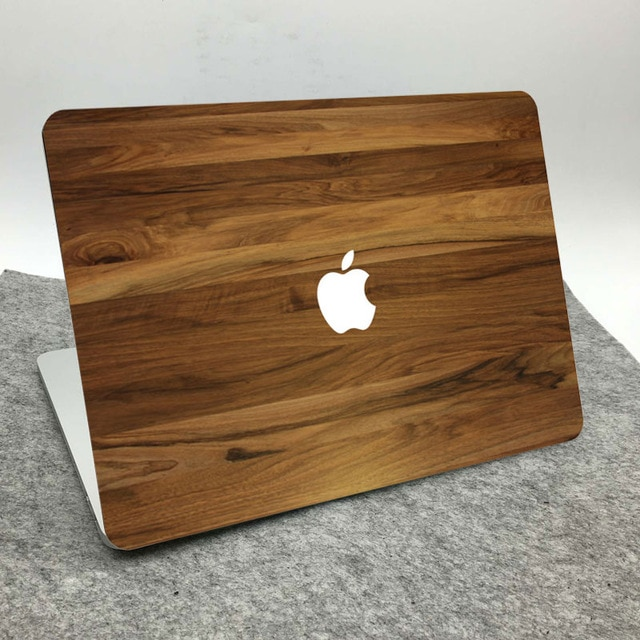apple: (309, 234, 407, 332)
